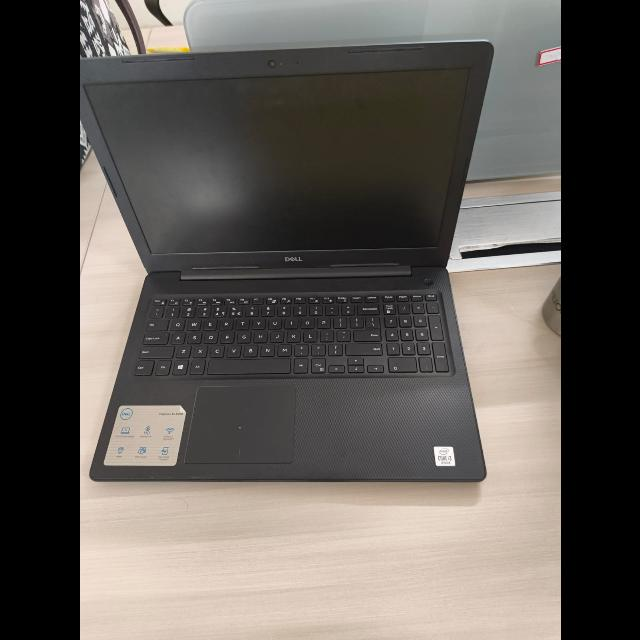laptop: (79, 22, 511, 520)
